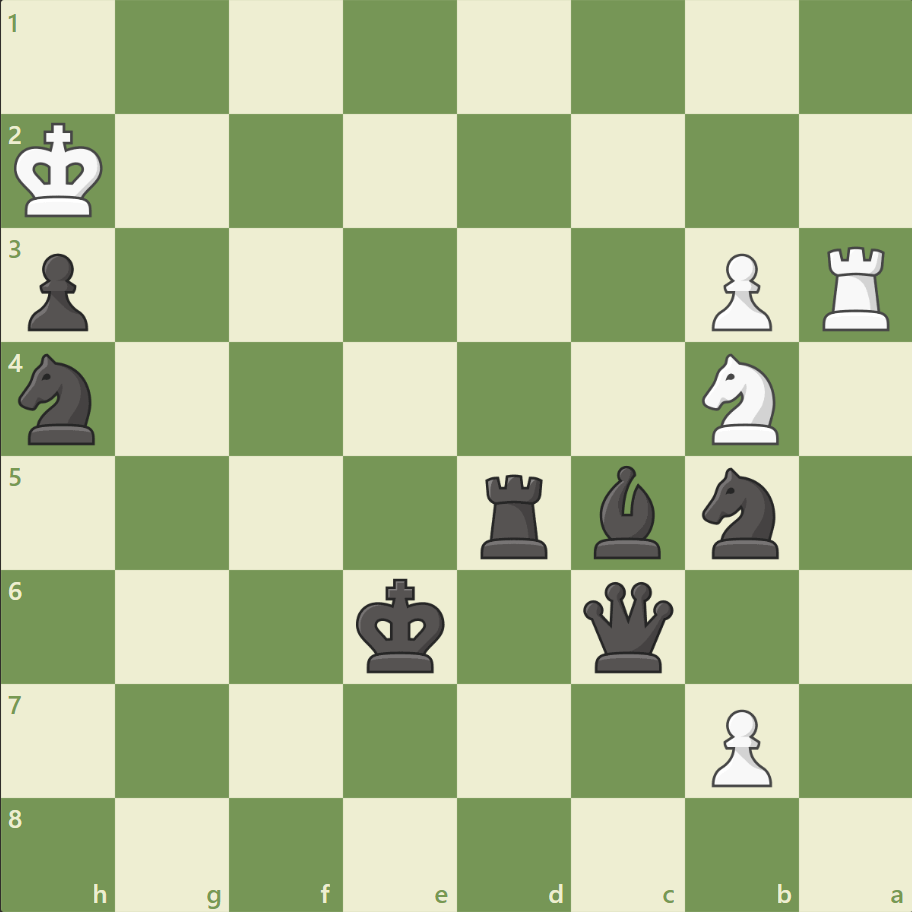K: (11, 117, 111, 225)
N: (692, 348, 789, 450)
P: (701, 700, 776, 791), (701, 246, 776, 337)
R: (814, 239, 897, 336)
b: (585, 460, 669, 563)
k: (351, 571, 451, 679)
n: (692, 461, 789, 564), (11, 348, 108, 450)
p: (20, 246, 95, 337)
q: (578, 576, 677, 676)
r: (473, 466, 556, 563)
